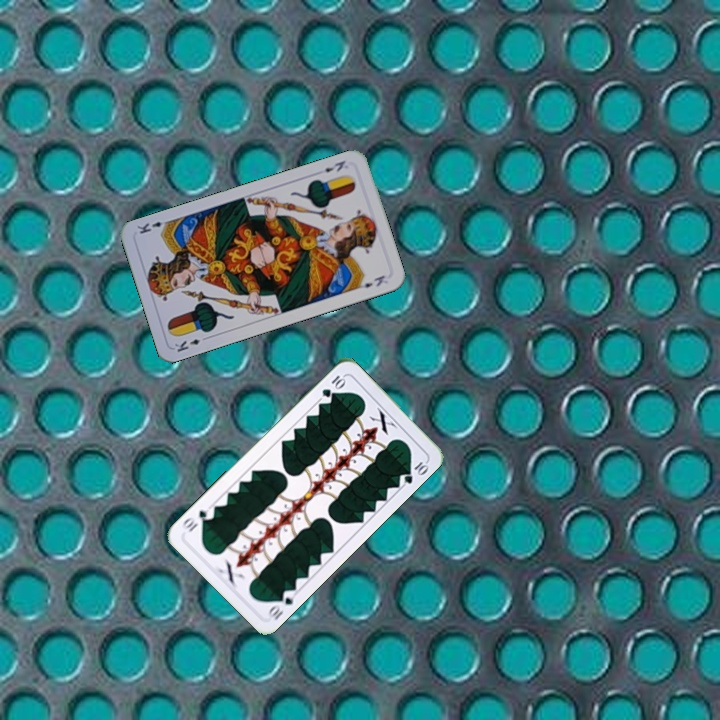EK: (170, 332, 211, 355), (320, 156, 348, 175)
G10: (264, 585, 296, 623), (318, 371, 348, 400)
